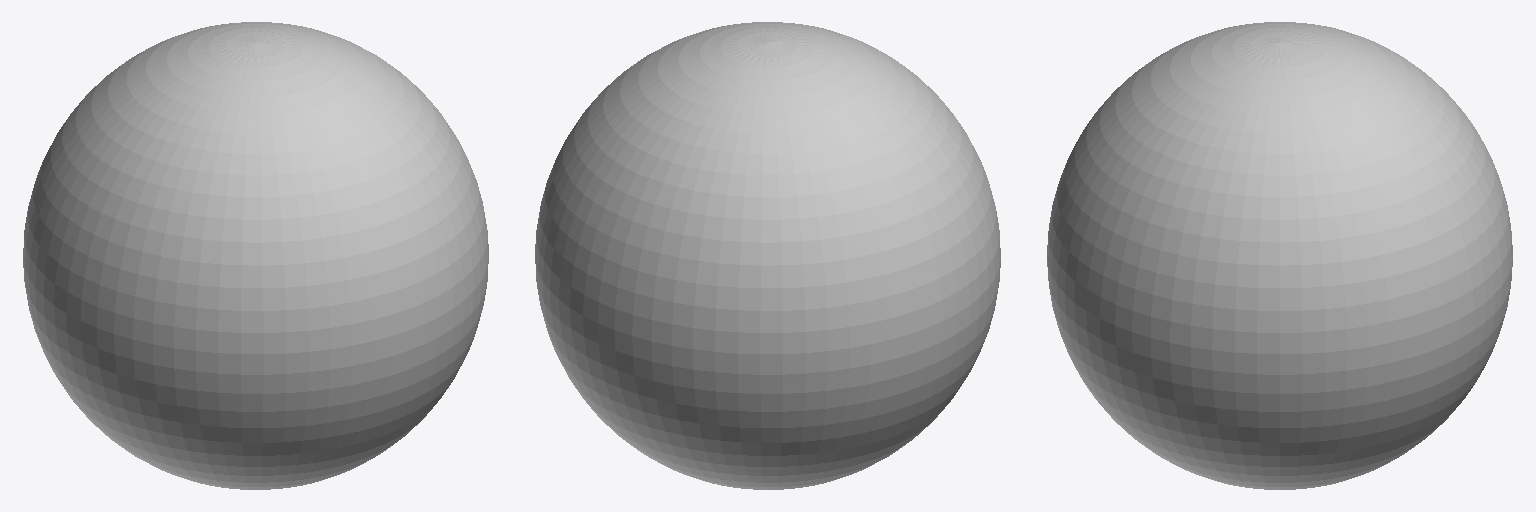
Rendered from venus.obj.
3 renders of one model, left to right at view 1: azimuth 30°, elevation 25°; view 2: azimuth 150°, elevation 25°; view 3: azimuth 270°, elevation 25°, orthographic.
Parts seen in each view (by area): view 1: Venus; view 2: Venus; view 3: Venus.
Boxes of the visible parts, x1,y1,x2,y2 form: Venus: [23, 22, 488, 489]; Venus: [535, 22, 1000, 489]; Venus: [1047, 22, 1512, 489].
Bounding box in the file's own units: 0.6269 × 0.6334 × 0.6269.